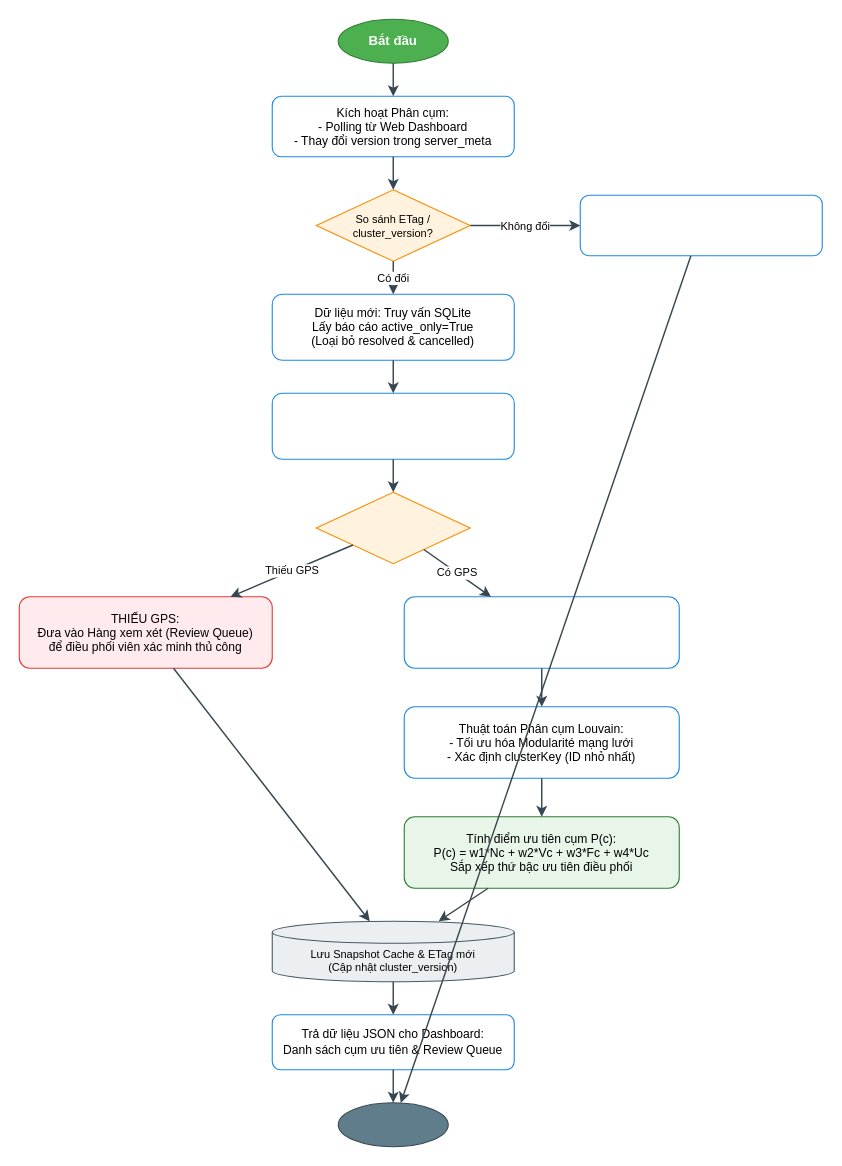
Some shapes in this 842 by 1166 pixel diagram are drawn without their labels. Each missing label, with the centre of its shape:
"Adapter to_report_v2: Trích xuất [F, U, N, V] & Tọa độ địa lý (lat, lng)" belongs at point (392, 425).
"Báo cáo có tọa độ GPS?" belongs at point (392, 527).
"CÓ GPS: Xây ma trận tương đồng C_ij (Khoảng cách Haversine, ngập F, khẩn cấp U)" belongs at point (541, 632).
"Không đổi: Trả 304 Not Modified (Tận dụng Client Cache, giảm tải CPU)" belongs at point (700, 225).
"Kết thúc" belongs at point (392, 1124).
